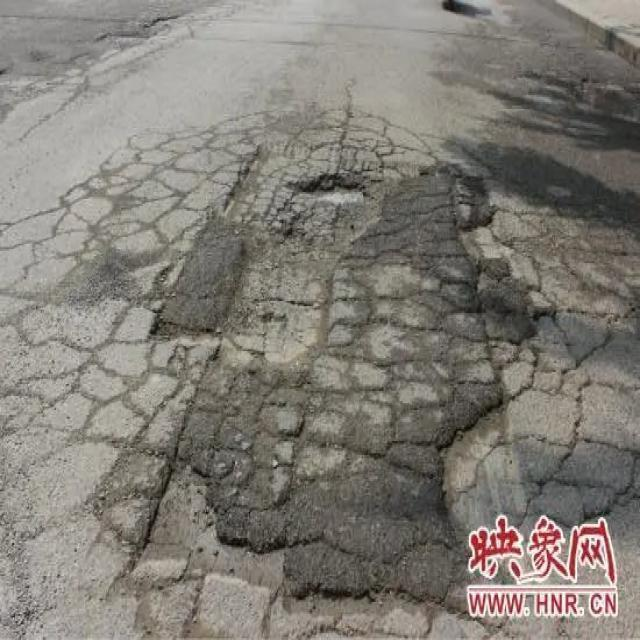pothole: (137, 457, 284, 597), (433, 384, 536, 568), (290, 173, 369, 203)
